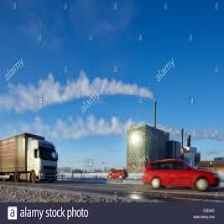smoke: (9, 76, 178, 129)
